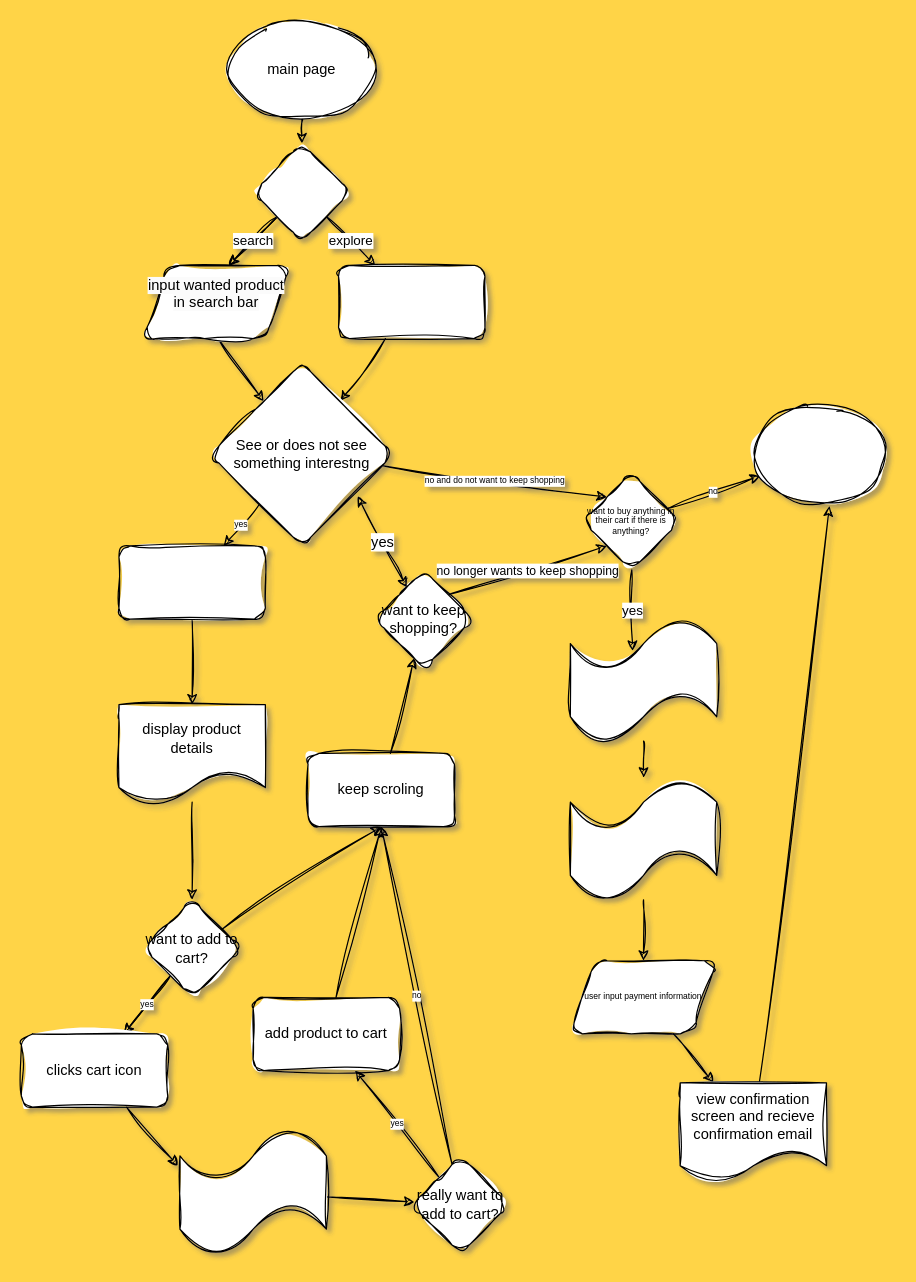
This 916x1282 diagram has some shape labels left out. Each missing label, with the box of its shape:
ask for confirmation to add to cart: (179, 1130, 326, 1254)
clicks on product: (118, 545, 265, 619)
leave website: (752, 404, 888, 503)
look through displayed recommended products: (337, 264, 485, 339)
search or explore: (252, 142, 351, 241)
view cart screen: (569, 618, 717, 741)
view payment screen: (569, 777, 717, 900)
